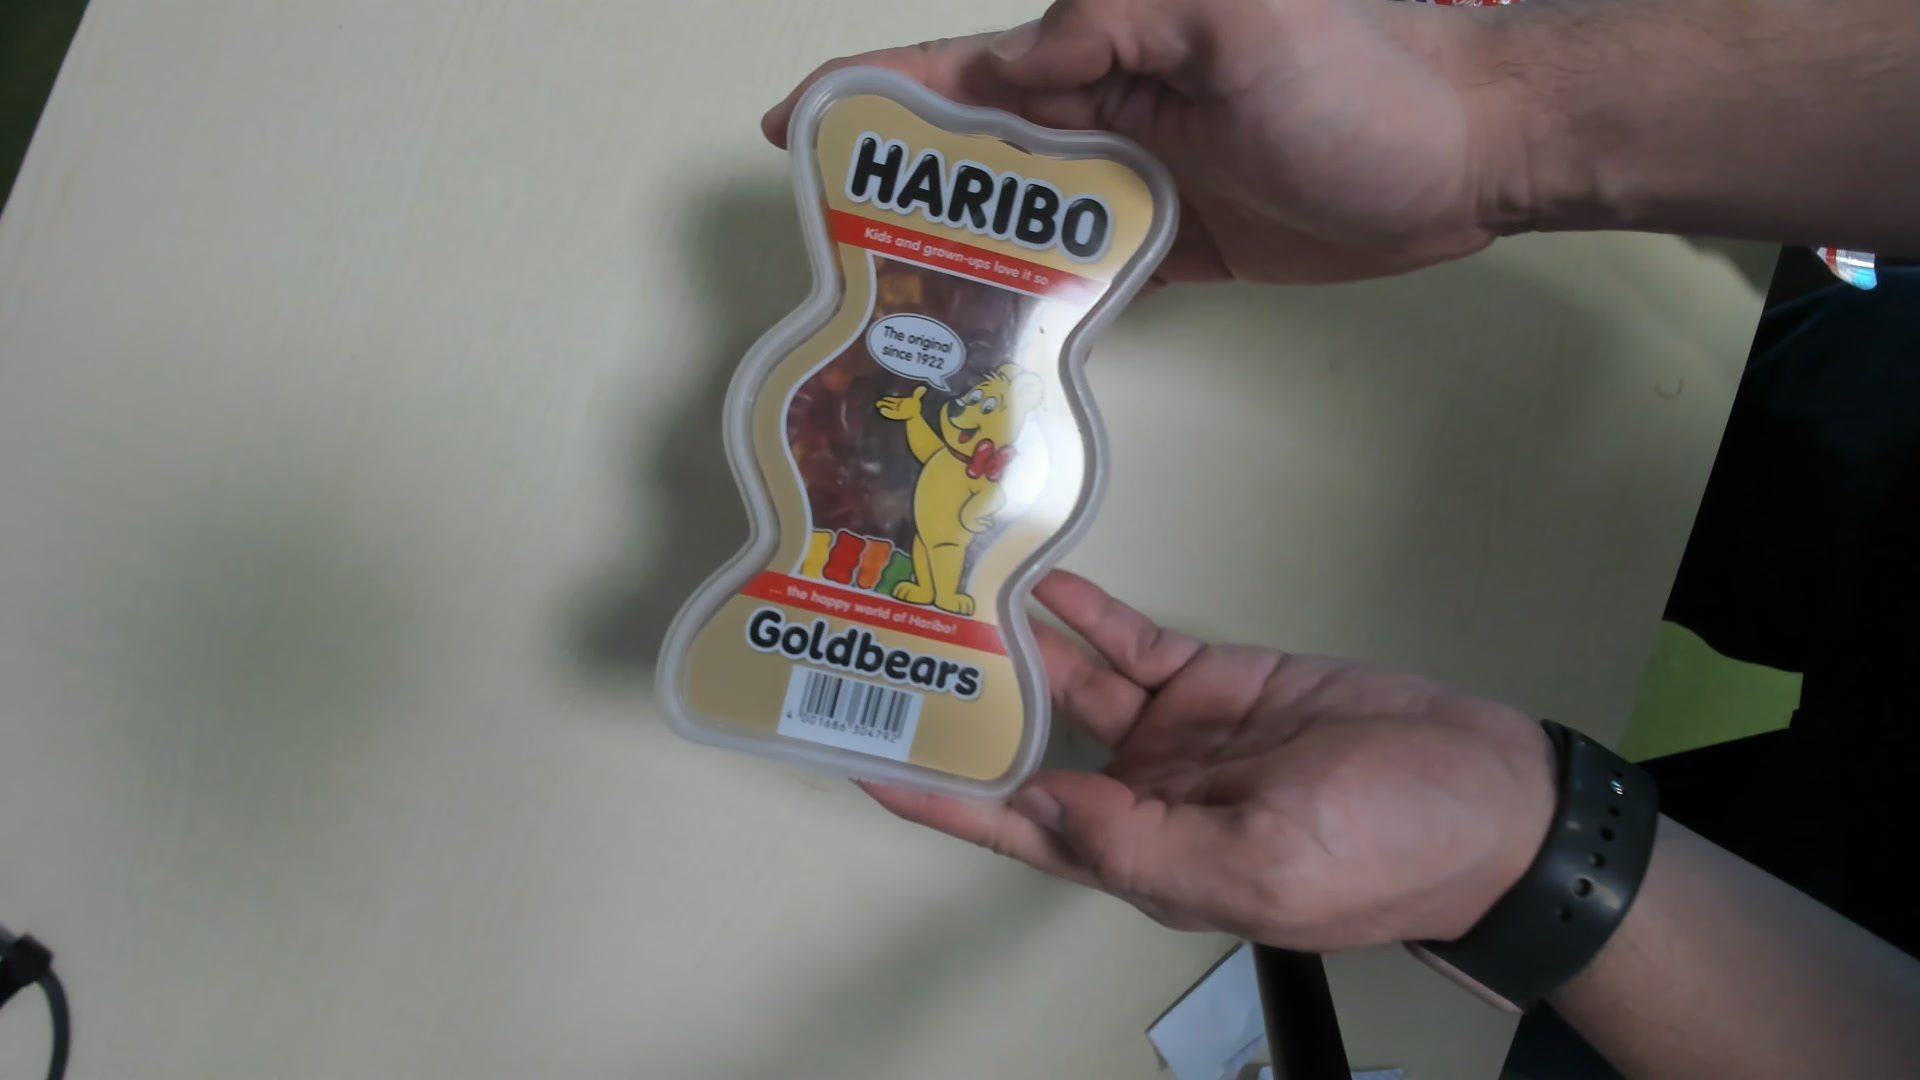SweetsChocolatesOthers_400-499g_NonHalal_Nonhealthy: (653, 79, 1174, 795)
